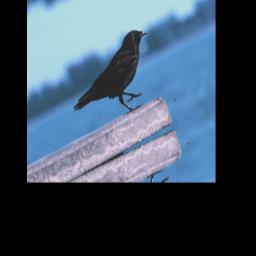Crow: (59, 21, 168, 139)
